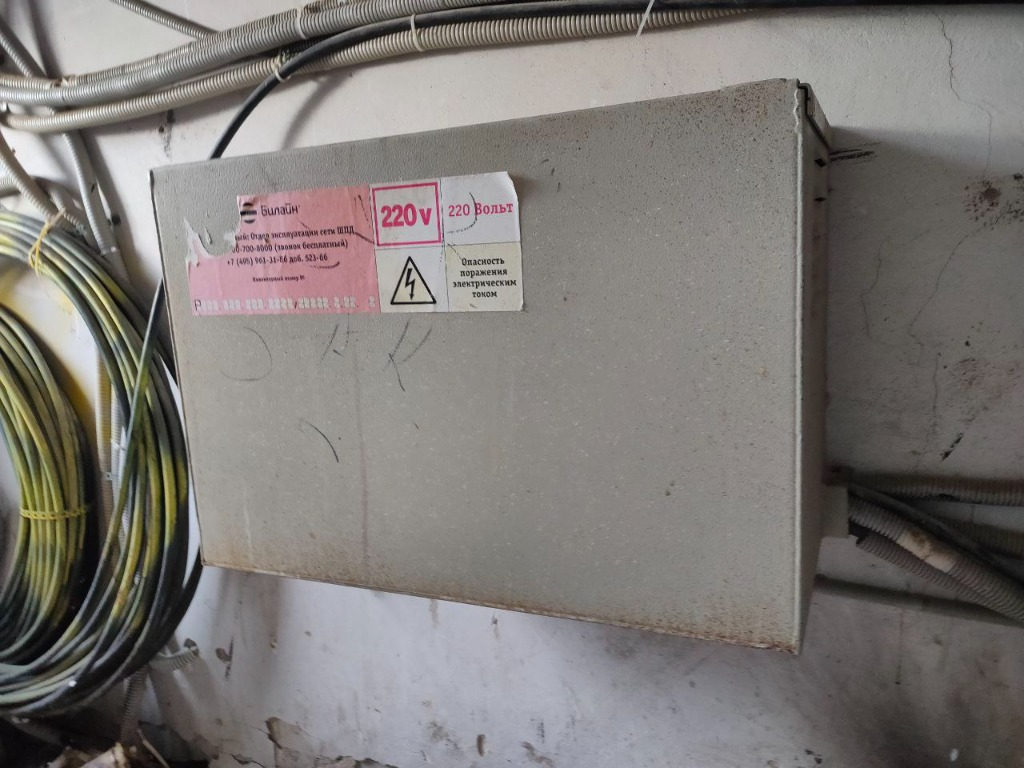sv-5: (141, 69, 841, 661)
